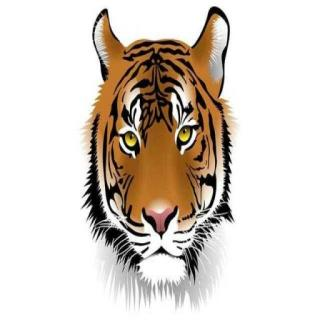Tiger: (73, 2, 250, 299)
